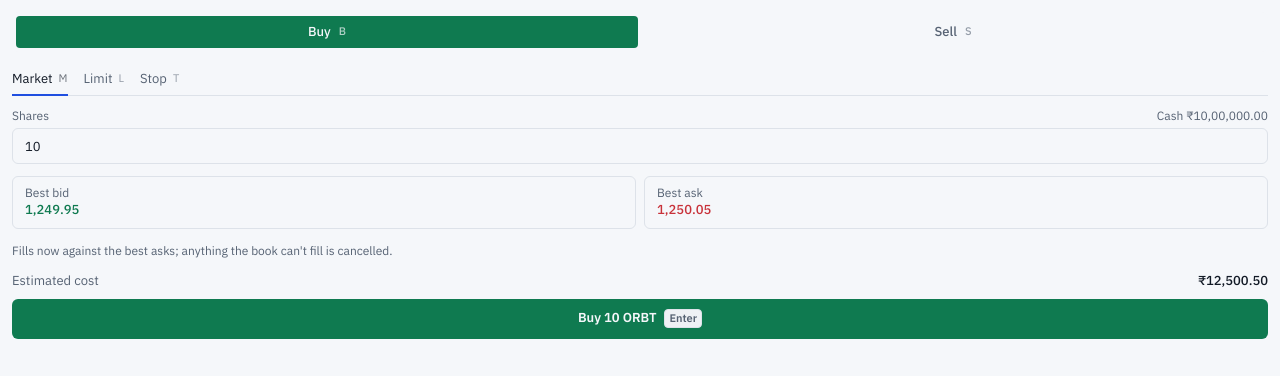
OrderTicket › checks each field as it is typed › never offers to buy zero shares:  reads “Buy ORBT”
Clear the field labelled "Shares Cash ₹10,00,000.00" at (640, 146), box 12,128 -> 1268,164
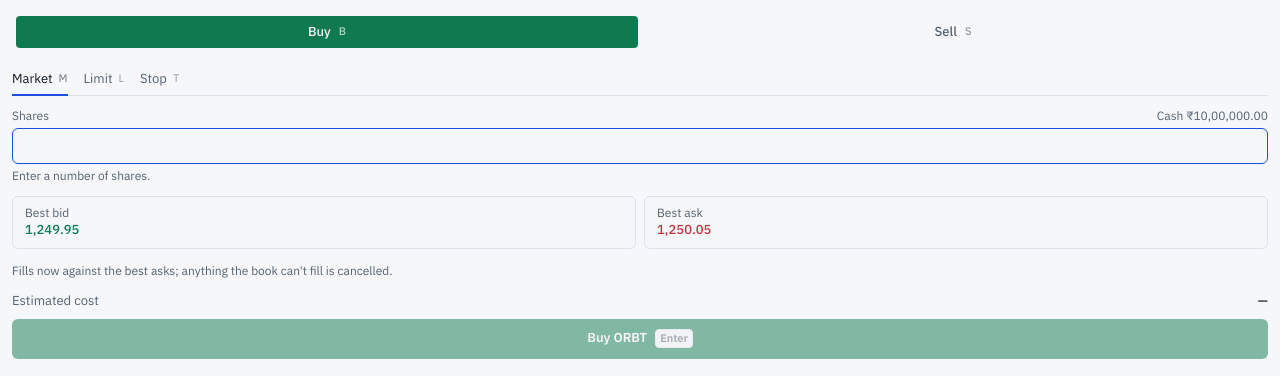
expect the button "Buy ORBT Enter" is disabled: met, box 12,319 -> 1268,359
